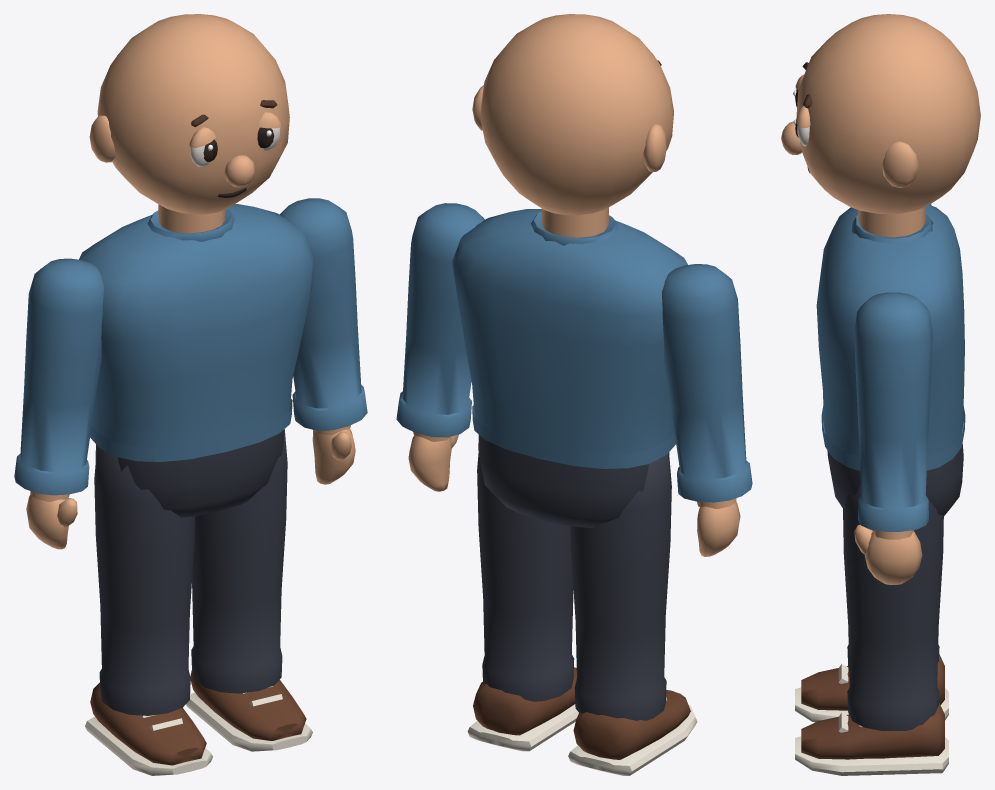
File: Character_Human.fbx
3 renders of one model, left to right at view 1: azimuth 30°, elevation 25°; view 2: azimuth 150°, elevation 25°; view 3: azimuth 270°, elevation 25°, orthographic.
Parts seen in each view (by area): view 1: Torso, Head, LegR, LegL, ArmR, ArmL, Hips, LegR_Shoe, LegL_Shoe, HandR, LegR_Sole, LegL_Sole (+2 smaller); view 2: Torso, Head, LegR, ArmR, LegL, ArmL, Hips, LegR_Shoe, LegL_Shoe, LegR_Sole, HandL, HandR (+1 smaller); view 3: Head, Torso, ArmL, LegL, LegL_Shoe, HandL, LegL_Sole, Hips, LegR_Shoe, LegR_Sole.
Boxes of the visible parts, x1,y1,x2,y2 form: Torso: (79, 204, 314, 461); Head: (89, 14, 289, 233); LegR: (94, 447, 195, 715); LegL: (191, 429, 287, 693); ArmR: (14, 258, 104, 495); ArmL: (280, 198, 367, 430); Hips: (95, 429, 284, 517); LegR_Shoe: (90, 682, 206, 765); LegL_Shoe: (190, 670, 306, 740); HandR: (26, 491, 77, 549); LegR_Sole: (85, 715, 212, 775); LegL_Sole: (186, 686, 312, 751); Torso: (452, 209, 687, 468); Head: (472, 14, 673, 237); LegR: (570, 454, 671, 720); ArmR: (662, 264, 752, 502); LegL: (477, 453, 574, 701); ArmL: (396, 203, 484, 437); Hips: (478, 434, 669, 528); LegR_Shoe: (573, 690, 690, 759); LegL_Shoe: (473, 667, 576, 735); LegR_Sole: (568, 697, 697, 775); HandL: (408, 432, 458, 491); HandR: (697, 498, 740, 556); Head: (781, 14, 980, 237); Torso: (816, 205, 965, 470); ArmL: (854, 292, 932, 531); LegL: (843, 484, 943, 730); LegL_Shoe: (801, 702, 944, 759); HandL: (854, 524, 922, 584); LegL_Sole: (795, 713, 948, 775); Hips: (827, 444, 963, 515); LegR_Shoe: (801, 654, 944, 710); LegR_Sole: (795, 664, 948, 722).
Size of the model in its own units: 253 by 505 by 128.
